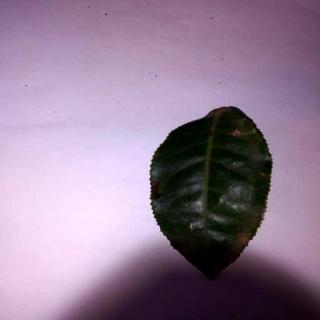Bird Eye Spot: (150, 106, 273, 280)
